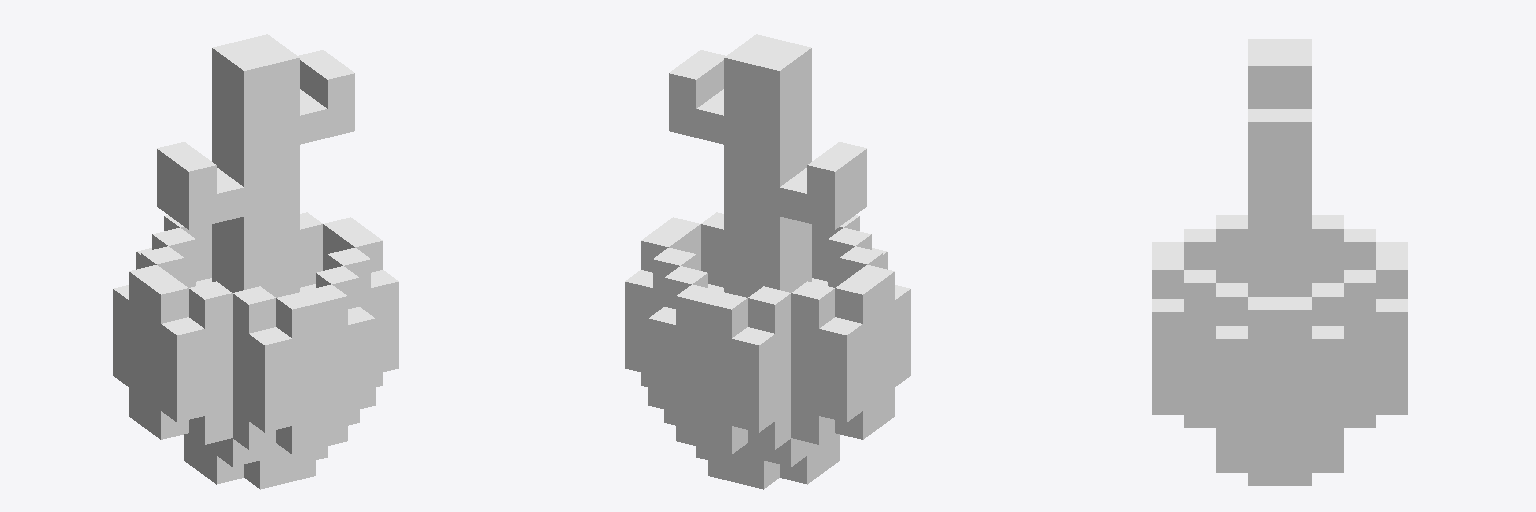
Rendered from prop_pot_cactus.obj.
The picture shows the model from 3 angles: view 1: azimuth 30°, elevation 25°; view 2: azimuth 150°, elevation 25°; view 3: azimuth 270°, elevation 25°; orthographic projection.
Parts seen in each view (by area): view 1: object 1; view 2: object 1; view 3: object 1.
Boxes of the visible parts, <box> form: object 1: <box>113,34,398,489</box>; object 1: <box>625,34,910,489</box>; object 1: <box>1152,39,1407,485</box>.
Size of the model in its own units: 0.8 by 1.4 by 0.8.